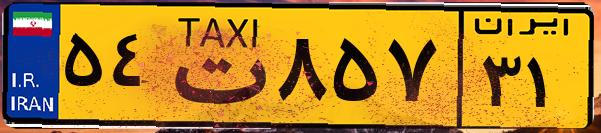1: (525, 38, 570, 115)
3: (475, 38, 525, 113)
4: (110, 28, 158, 98)
5: (330, 28, 385, 110), (57, 26, 110, 100)
7: (385, 28, 445, 110)
8: (270, 28, 330, 110)
ت: (158, 12, 270, 120)
